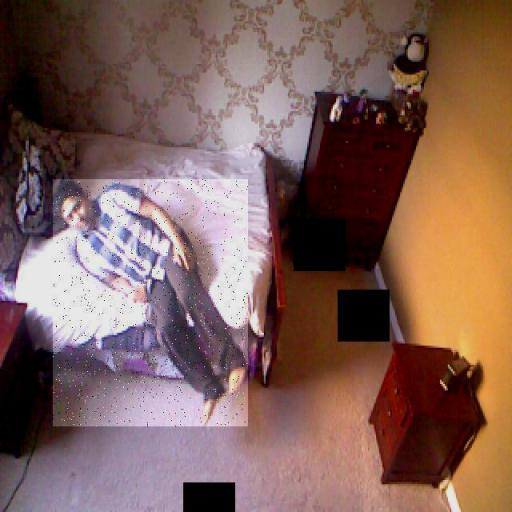Fall: (53, 180, 248, 427)
